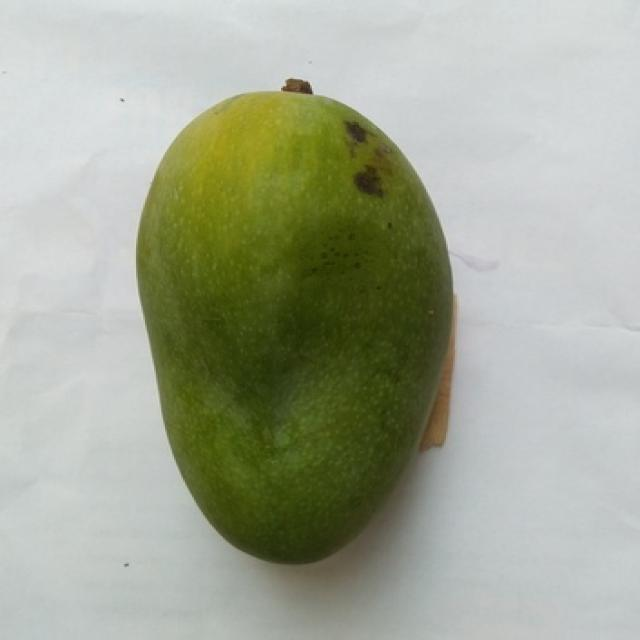Mango: (138, 92, 451, 561)
